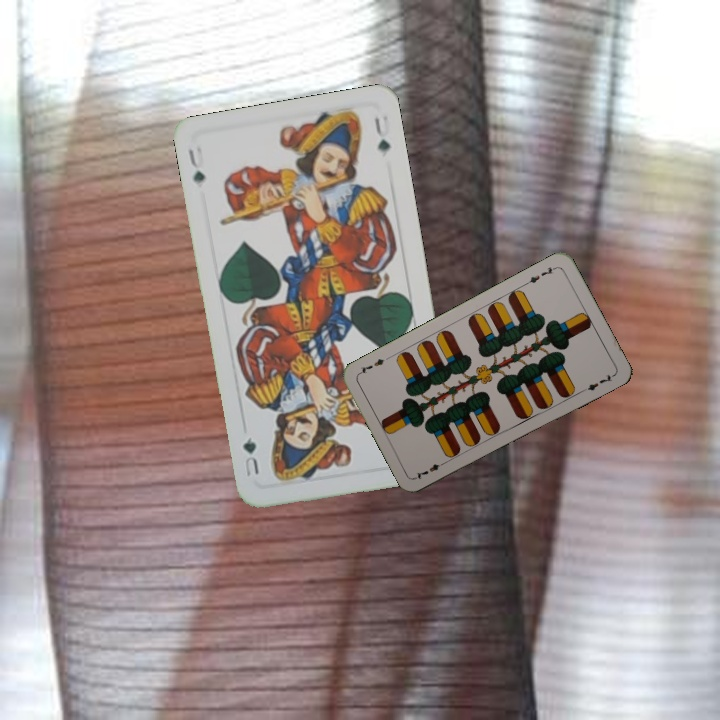E7: (521, 263, 559, 287), (412, 457, 449, 481)
GU: (184, 142, 208, 186)
